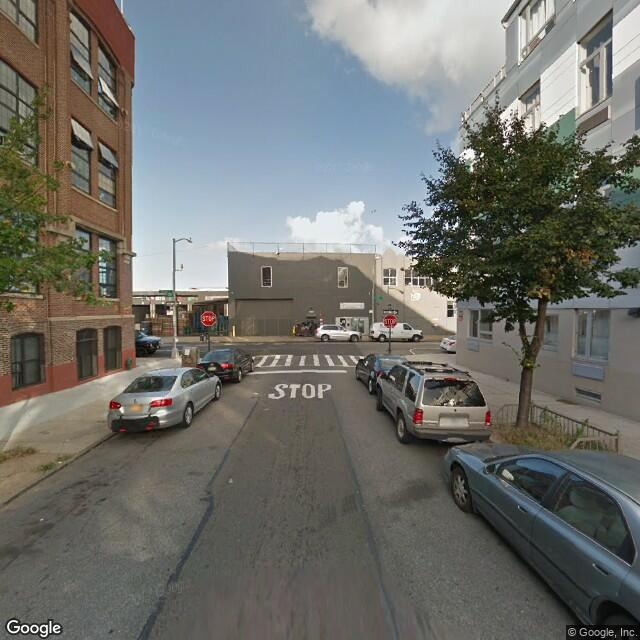litter: (56, 459, 62, 466), (38, 516, 42, 519)
